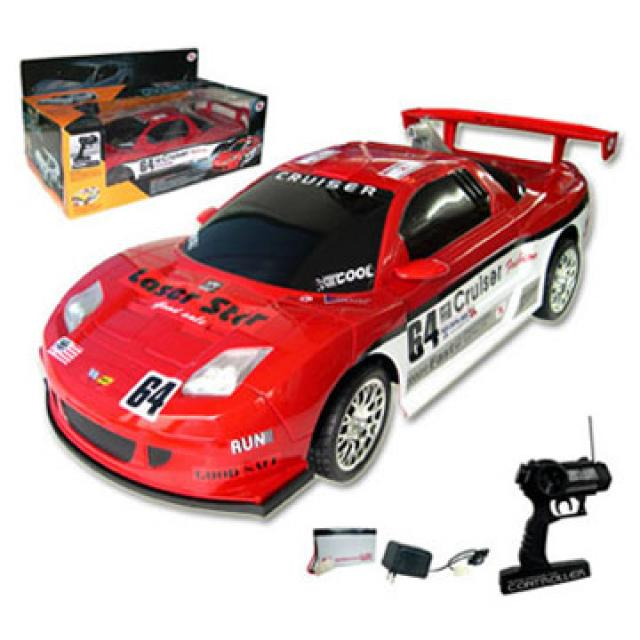Car: (40, 104, 622, 517)
